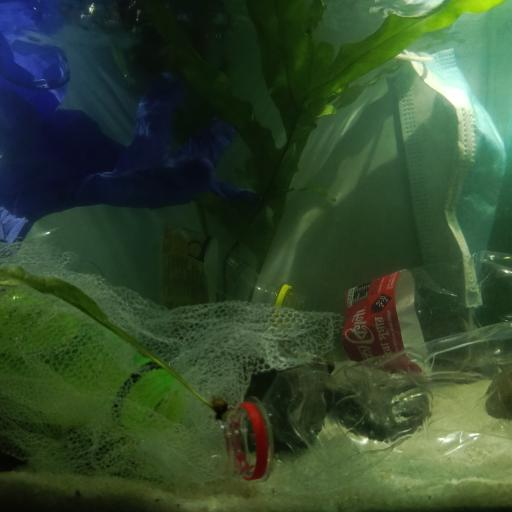glove: (0, 35, 246, 237)
mask: (395, 42, 512, 315)
net: (0, 239, 347, 471)
plastic_bottle: (223, 322, 512, 483), (0, 270, 184, 431), (303, 248, 512, 378), (83, 224, 297, 312)
